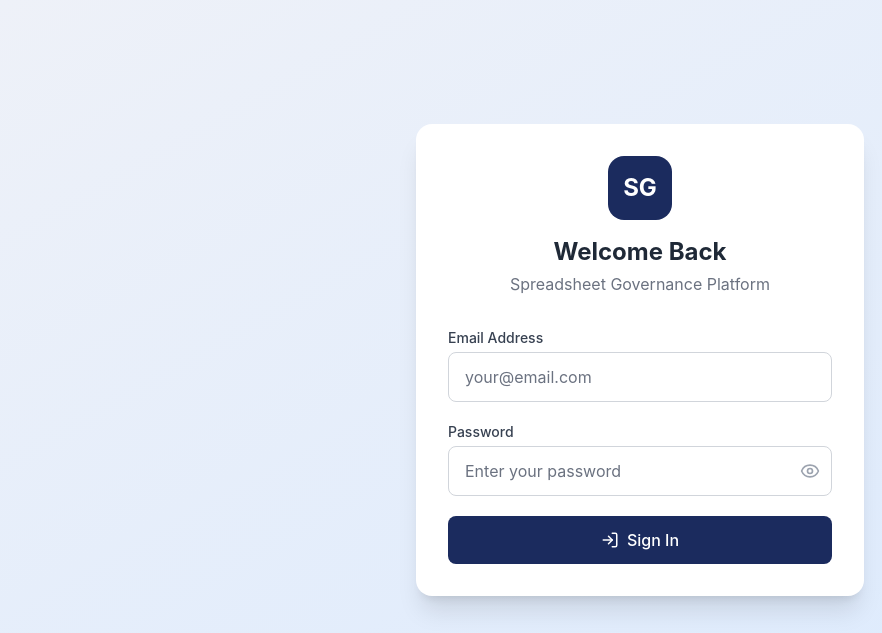
Test: Login › shows a spinner on the submit button while the login request is in flight
Type "jane@example.com" into the field with placeholder "your@email.com". click: (640, 377)
box: [448,352,832,402]
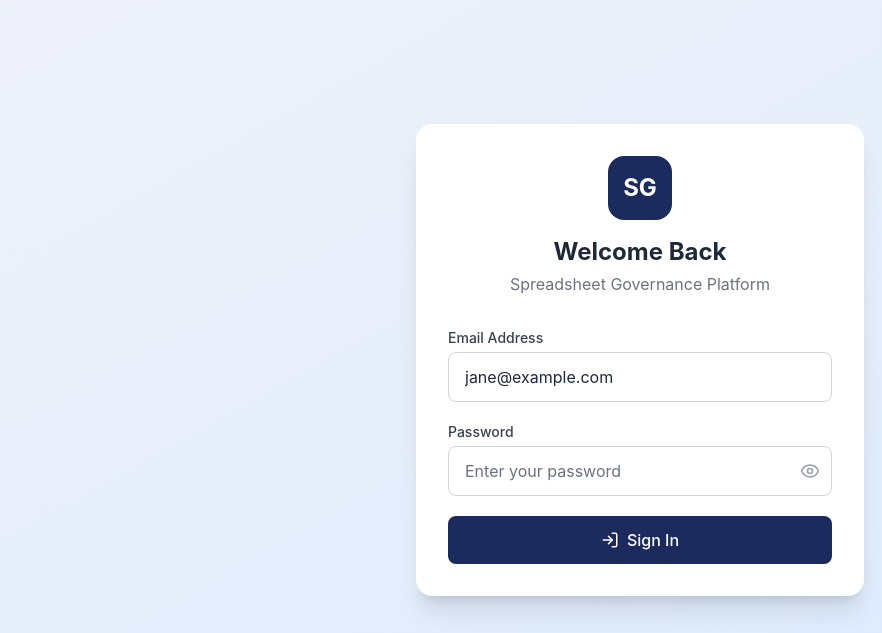
Type "password123" into the password field with placeholder "Enter your password". click: (640, 471)
box: [448,446,832,496]
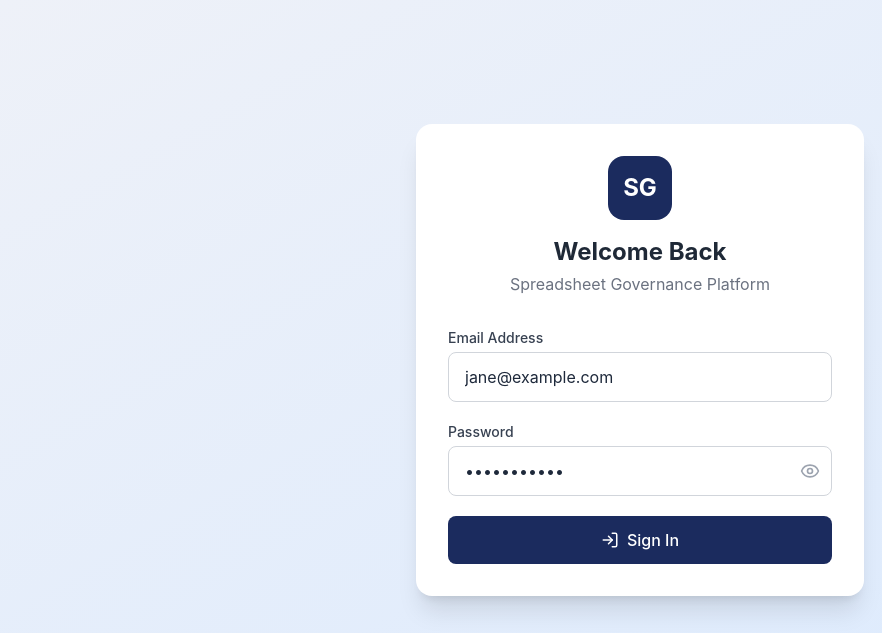
Click the button "Sign In". click: click(640, 540)
box: [448,516,832,564]
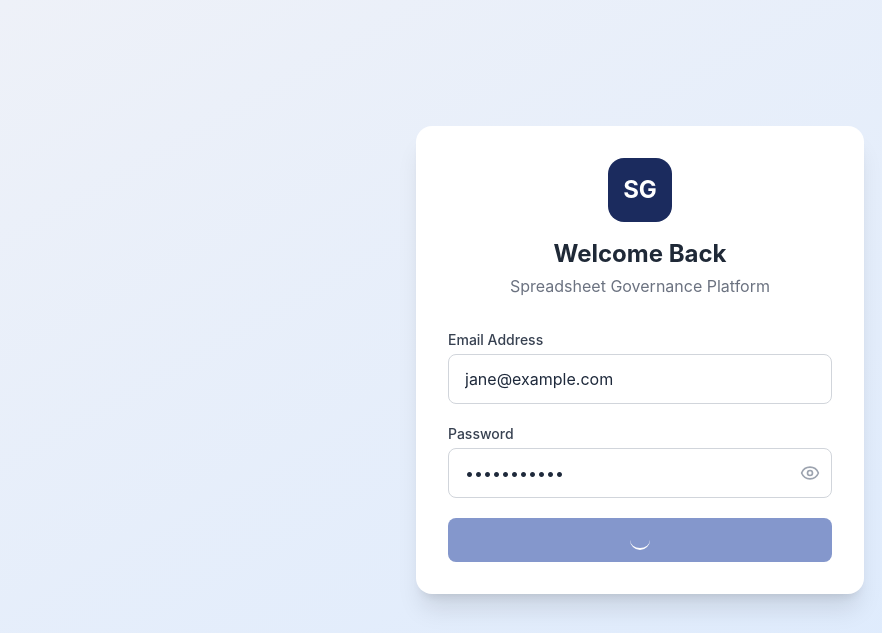
Expected: the button "Sign In" is gone
